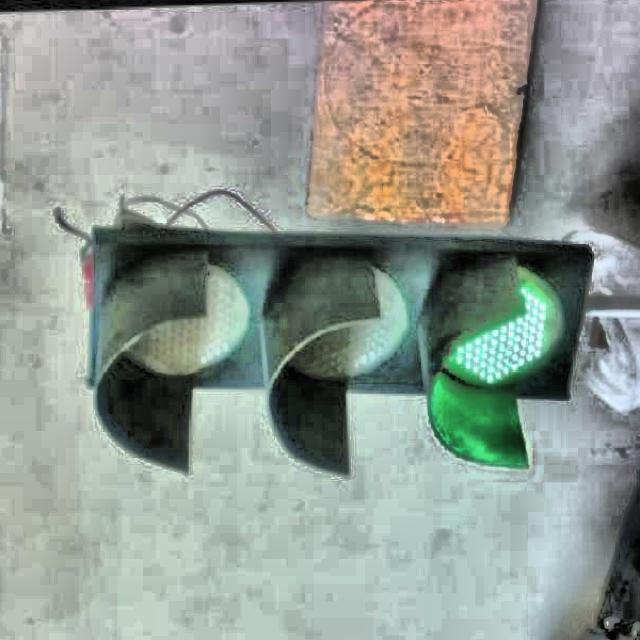green: (82, 222, 602, 430)
